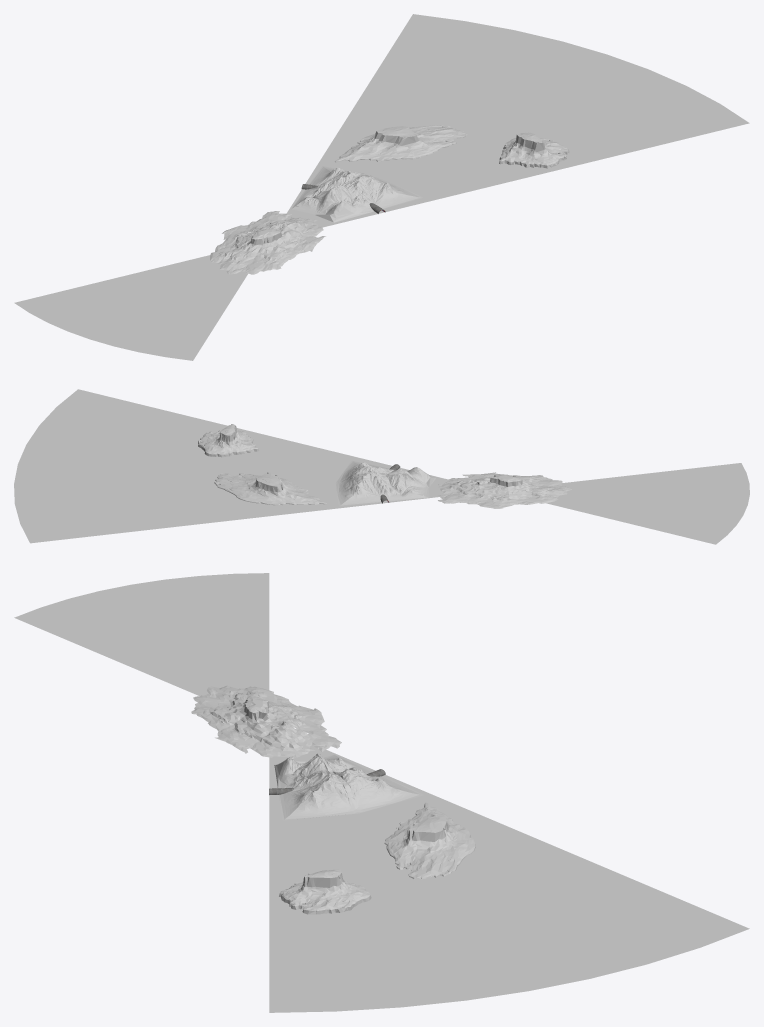
File: Rock_relis_L45.FBX
3 renders of one model, top to bottom at view 1: azimuth 30°, elevation 25°; view 2: azimuth 150°, elevation 25°; view 3: azimuth 270°, elevation 25°, orthographic. The views are drawn at different scales.
Visible parts, largest first — view 1: grunt002, Plane020, Plane012, Plane021, Plane019; view 2: grunt002, Plane020, Plane012, Plane021, Plane019; view 3: grunt002, Plane020, Plane012, Plane021, Plane019.
Boxes of the visible parts, box(x1,y1,x2,y2) form: grunt002: box(14, 14, 749, 360); Plane020: box(210, 211, 325, 274); Plane012: box(291, 166, 422, 222); Plane021: box(335, 125, 467, 162); Plane019: box(499, 132, 569, 168); grunt002: box(14, 389, 749, 544); Plane020: box(437, 472, 571, 508); Plane012: box(335, 460, 435, 506); Plane021: box(214, 472, 326, 505); Plane019: box(198, 424, 259, 457); grunt002: box(14, 573, 749, 1012); Plane020: box(191, 685, 341, 758); Plane012: box(274, 753, 423, 820); Plane021: box(384, 802, 475, 879); Plane019: box(279, 869, 371, 914).
Bounding box in the file's own units: 5000 × 3536 × 130.
